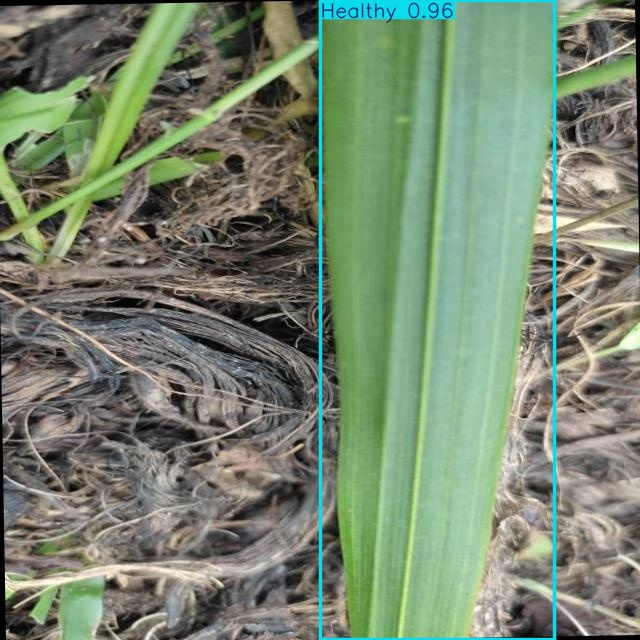Healthy: (321, 0, 554, 639)
